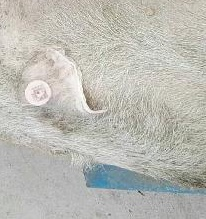text: (14, 68, 59, 116)
